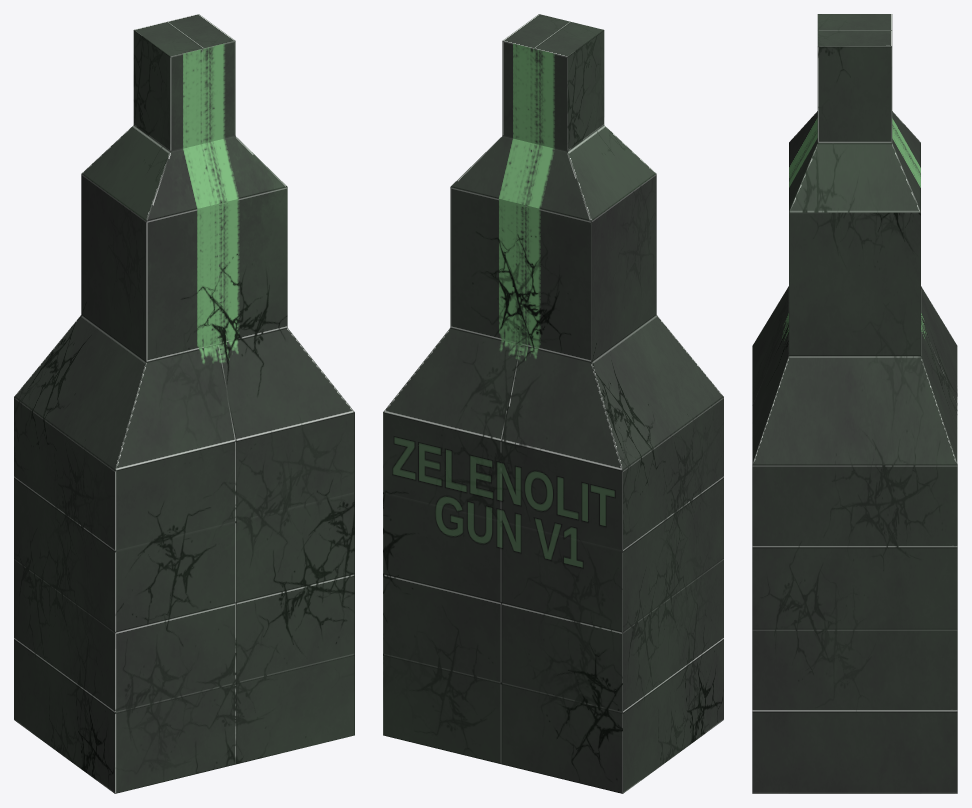
The model's file is ZGUN.fbx.
3 renders of one model, left to right at view 1: azimuth 30°, elevation 25°; view 2: azimuth 150°, elevation 25°; view 3: azimuth 270°, elevation 25°, orthographic.
Parts seen in each view (by area): view 1: Cube; view 2: Cube; view 3: Cube.
Boxes of the visible parts, bbox=[...] form: Cube: bbox=[14, 14, 354, 793]; Cube: bbox=[383, 14, 723, 793]; Cube: bbox=[752, 14, 957, 793].
Bounding box in the file's own units: 486 × 1341 × 355.
1 material, 1 textured.
